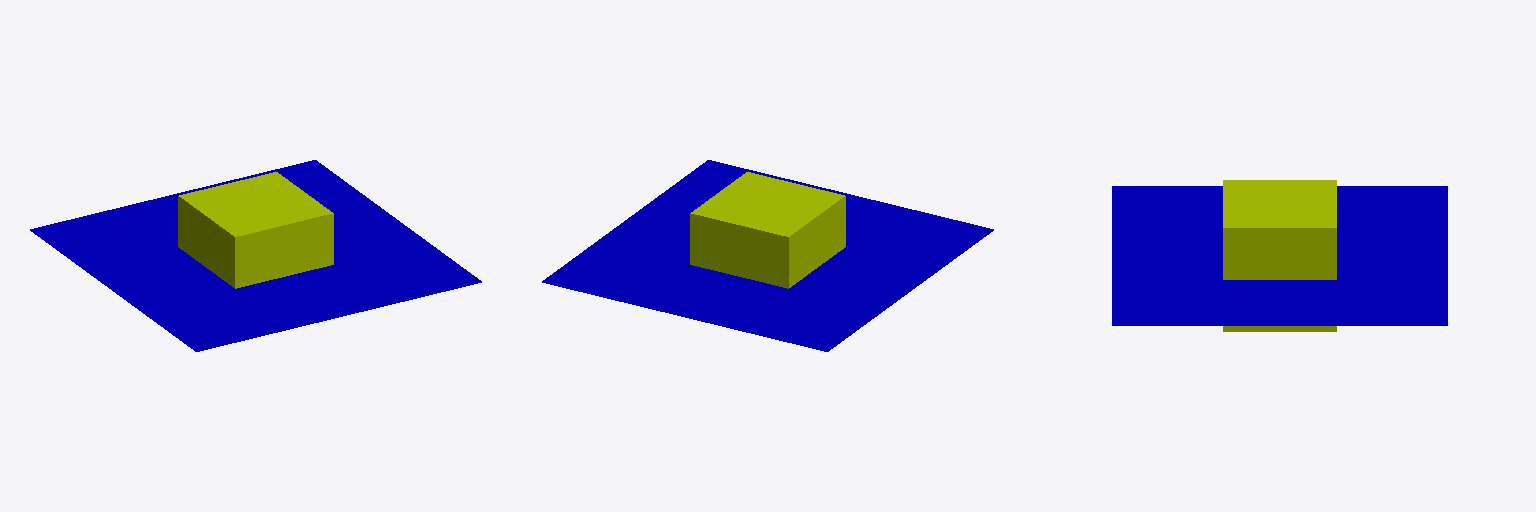
Rendered from glassTestWings.obj.
The picture shows the model from 3 angles: view 1: azimuth 30°, elevation 25°; view 2: azimuth 150°, elevation 25°; view 3: azimuth 270°, elevation 25°; orthographic projection.
Parts seen in each view (by area): view 1: Plane_Material.005, Cube_Material.002; view 2: Plane_Material.005, Cube_Material.002; view 3: Plane_Material.005, Cube_Material.002.
Part boxes in pixels (x1,y1,x2,y2): Plane_Material.005: (30,160,481,351); Cube_Material.002: (178,172,333,288); Plane_Material.005: (542,160,993,351); Cube_Material.002: (690,172,845,288); Plane_Material.005: (1112,186,1447,325); Cube_Material.002: (1223,180,1336,331).
Bounding box in the file's own units: 58.22 × 20 × 58.91.